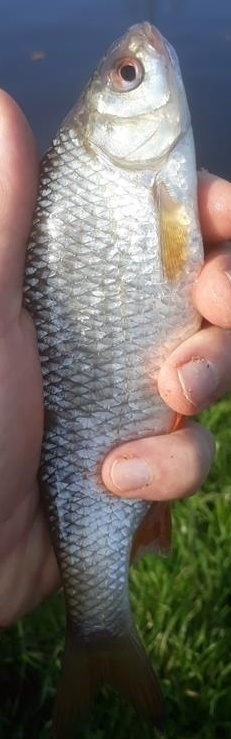Rutilus rutilus: (20, 20, 211, 726)
